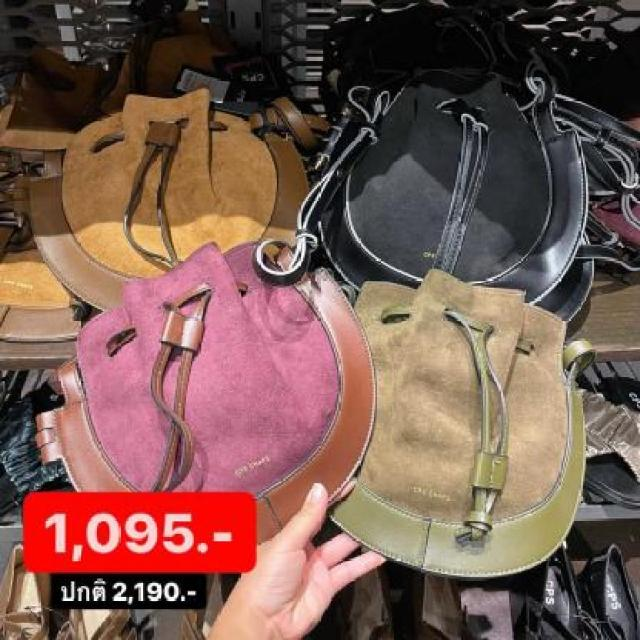Bag: (22, 226, 381, 585), (318, 226, 610, 629), (298, 3, 624, 357), (36, 35, 322, 339)
